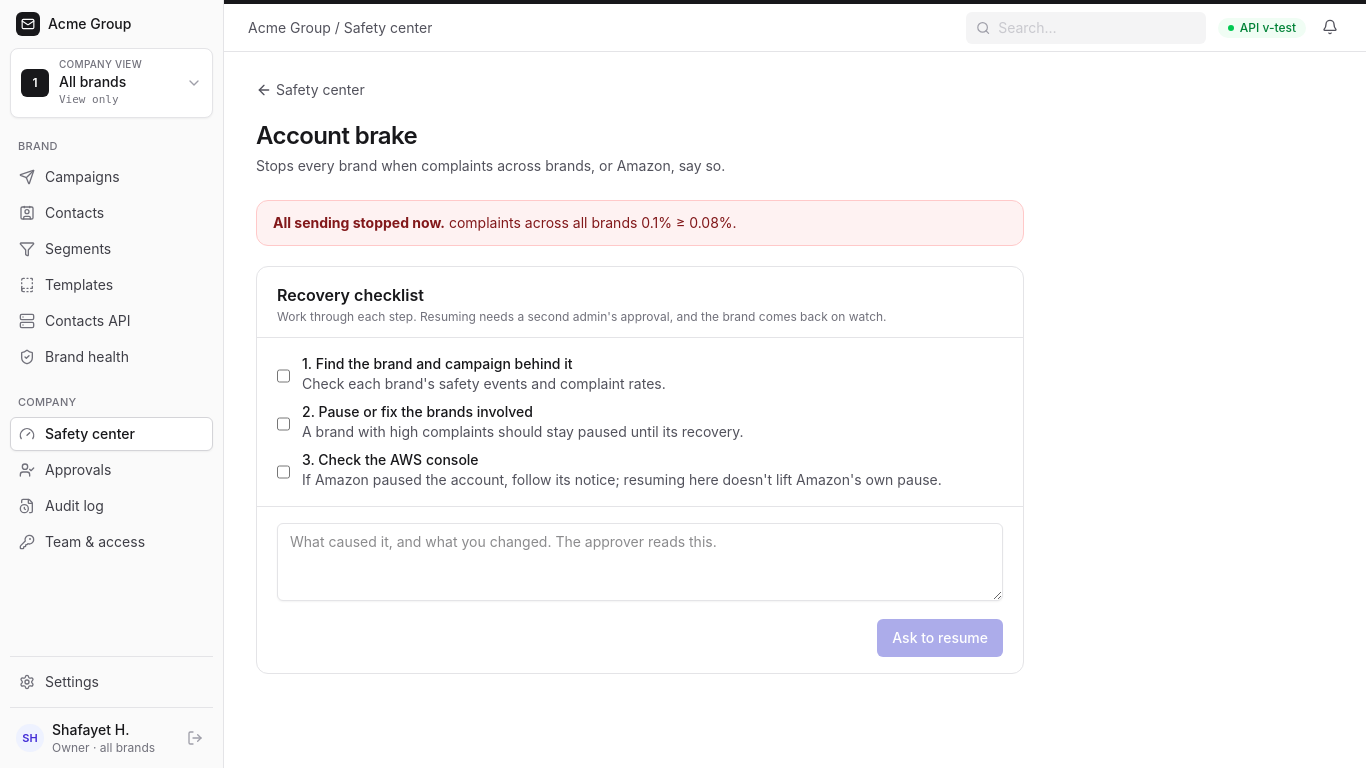
Test: account brake › lets an owner ask to resume all sending
The width and height of the screenshot is (1366, 768).
Check: the text "All sending stopped now." is shown, box [273,214,445,231]
Step 1. Click the 1st checkbox → [284, 376], box [277,358,290,394]
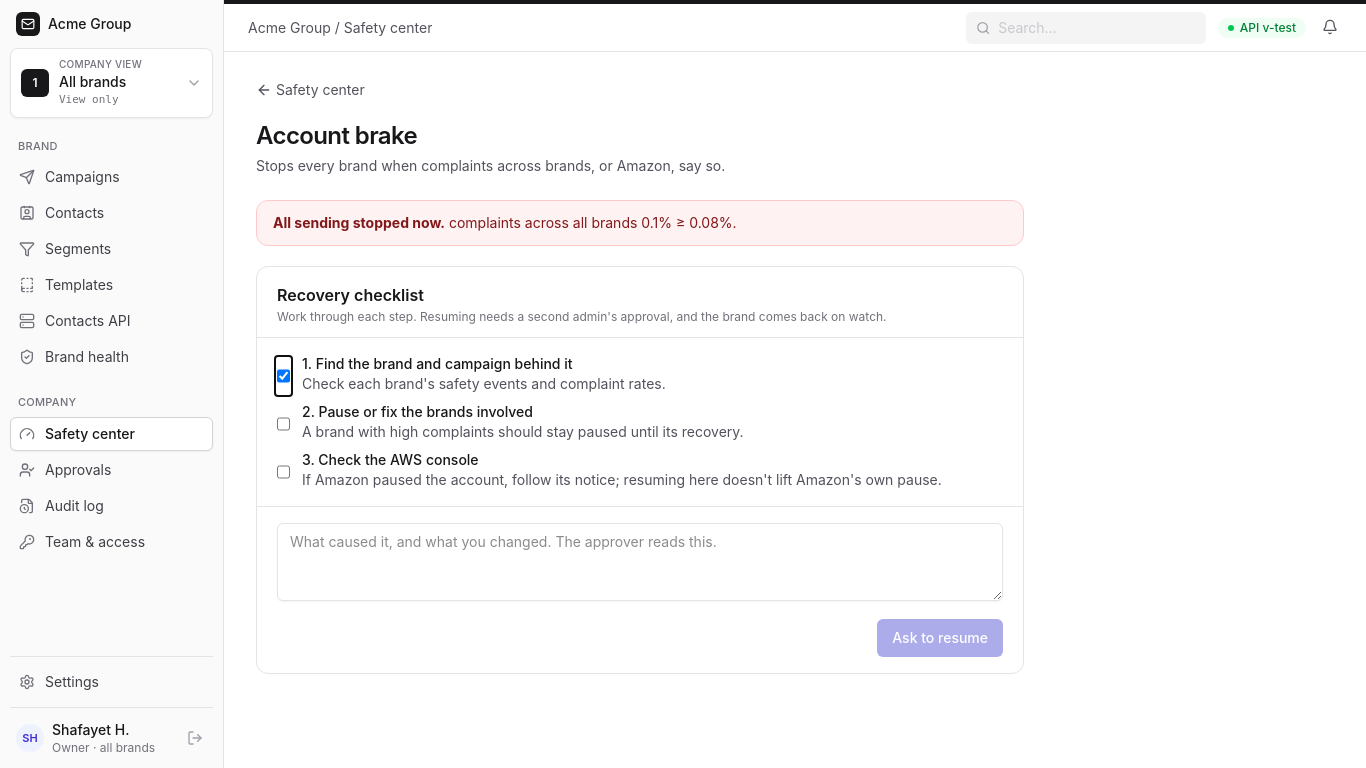
Step 2. Click the 2nd checkbox → [284, 424], box [277,406,290,442]
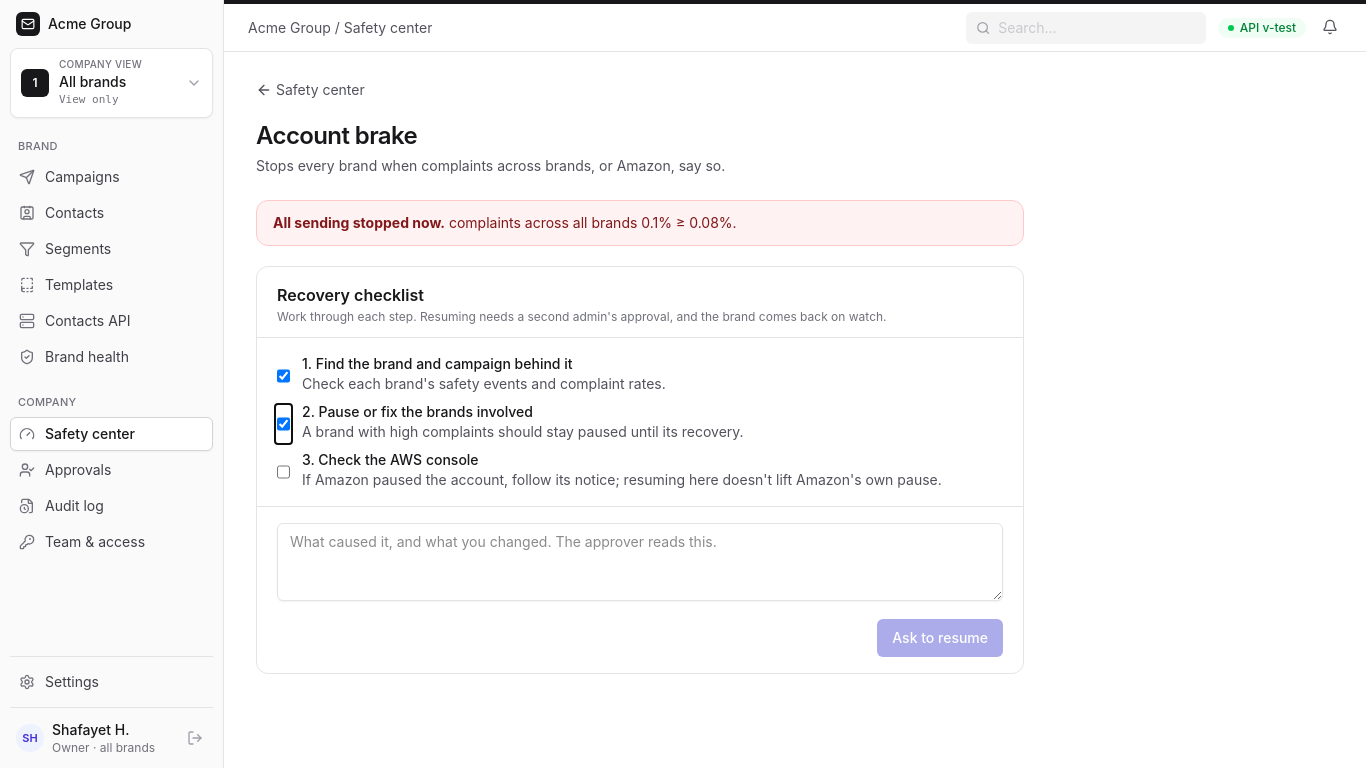
Step 3. Click the 3rd checkbox → [284, 472], box [277,454,290,490]
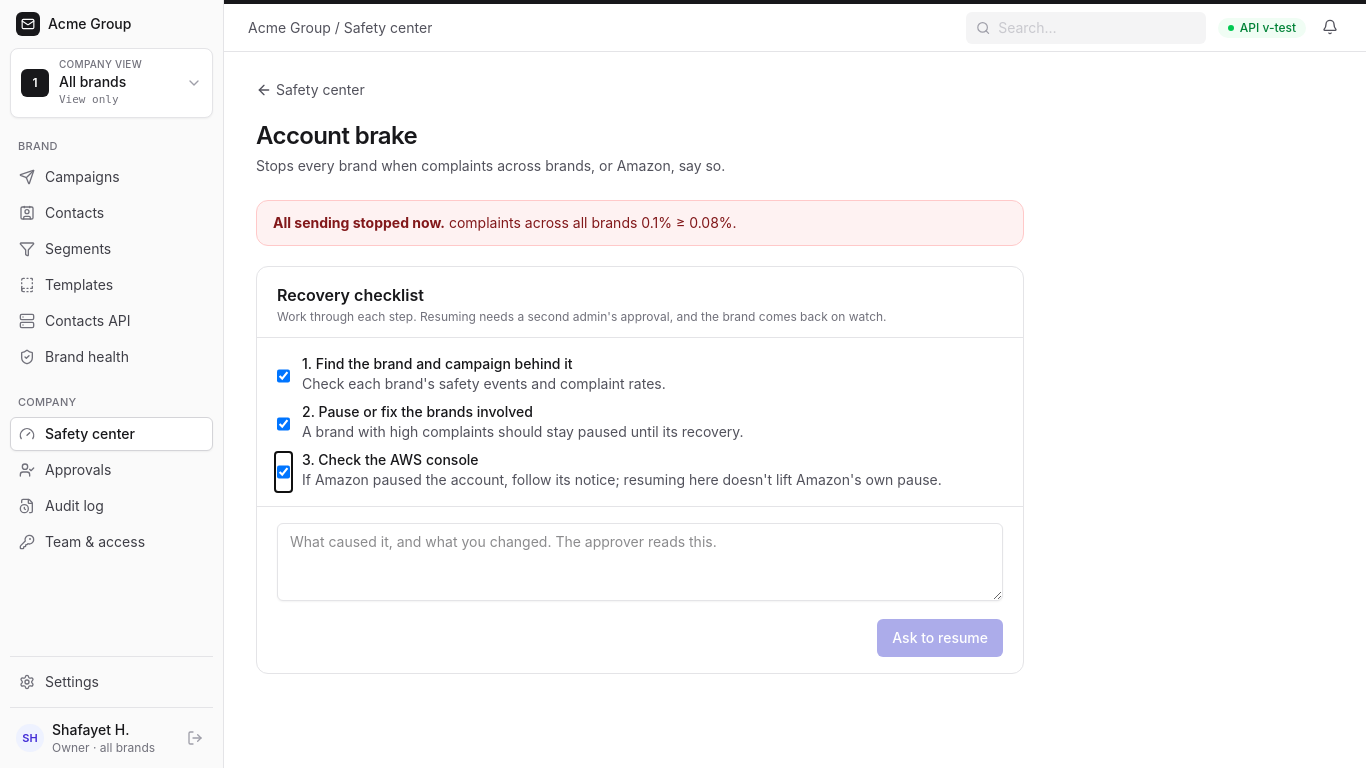
Step 4. Type "Brightside's import; it's paused." into the text box named "What you found and fixed" → [640, 562], box [277,523,1003,601]
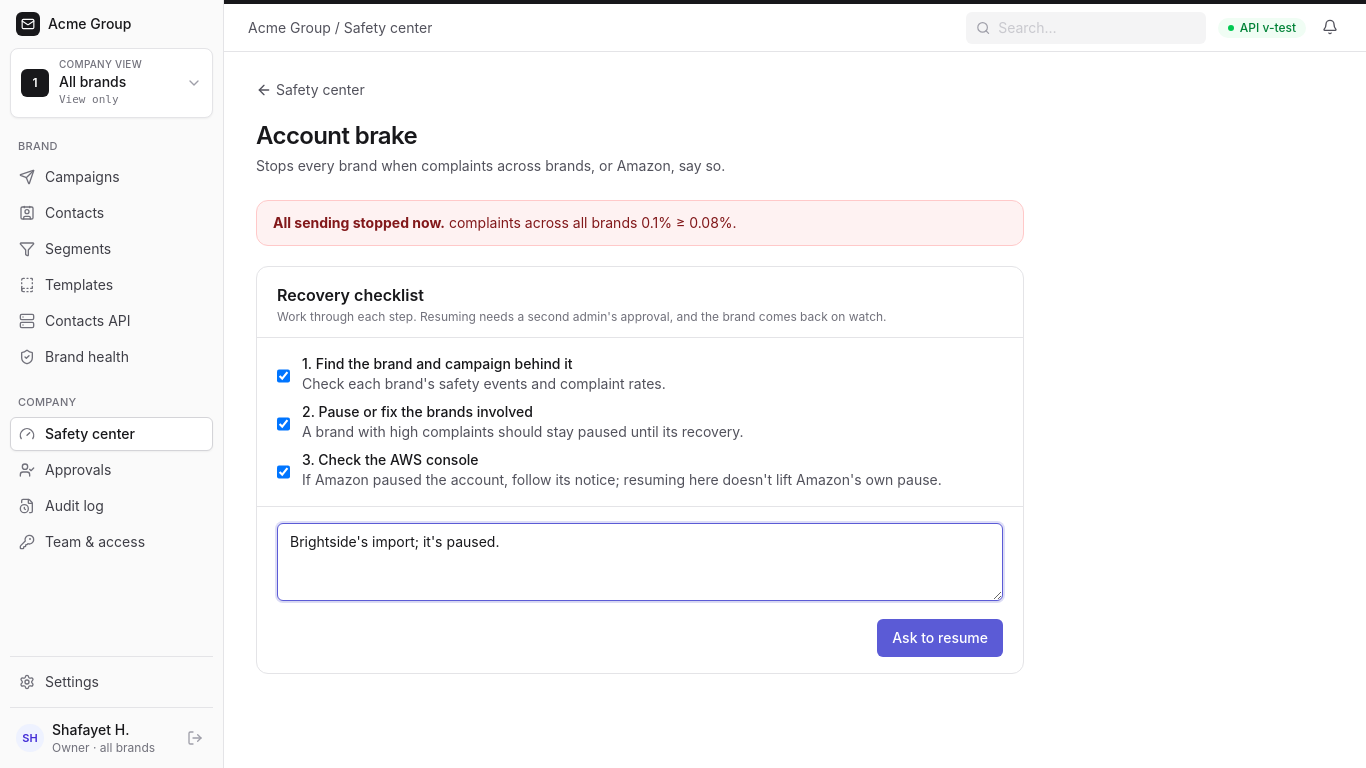
Step 5. Click the button "Ask to resume" → [940, 638], box [877,619,1003,657]
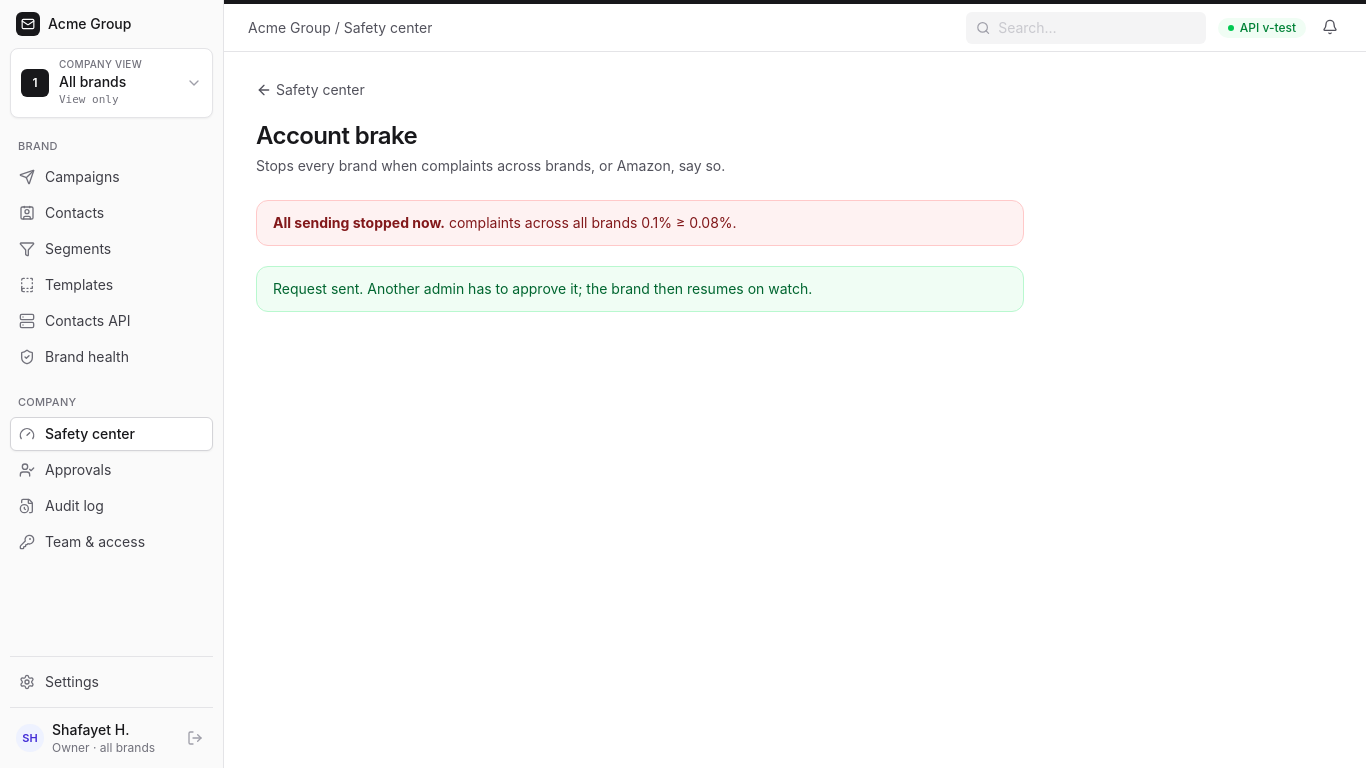
Check: the message shows "Request sent", box [273,280,812,297]
